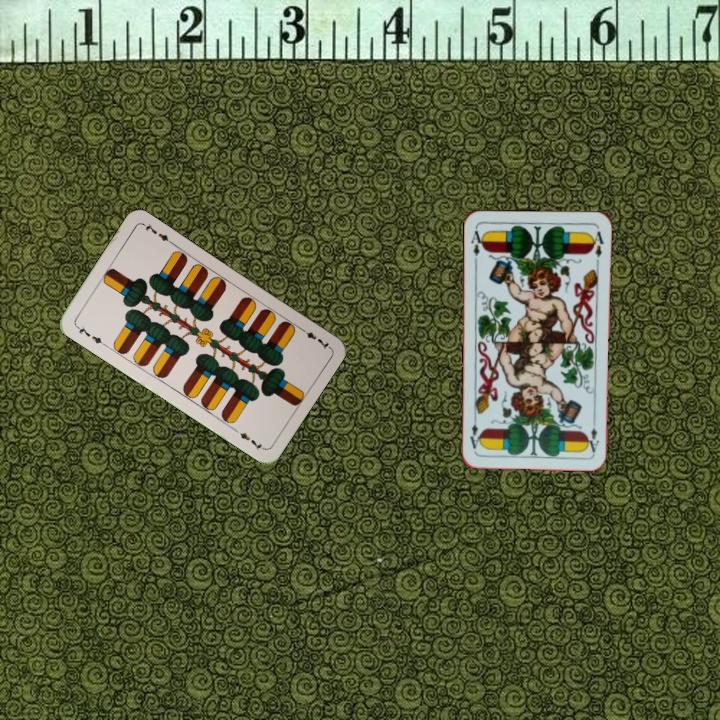E7: (296, 323, 332, 352), (72, 322, 108, 349)
EA: (467, 225, 486, 265), (586, 424, 602, 455)
